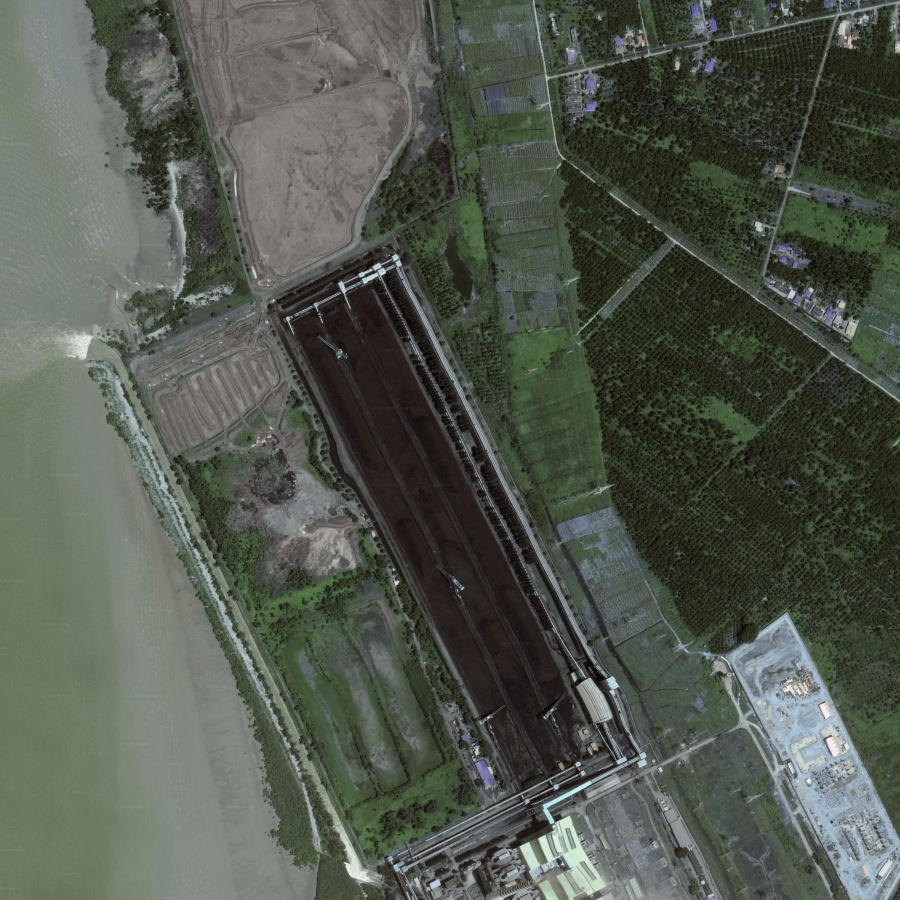PowerPlant: (292, 256, 615, 794)
